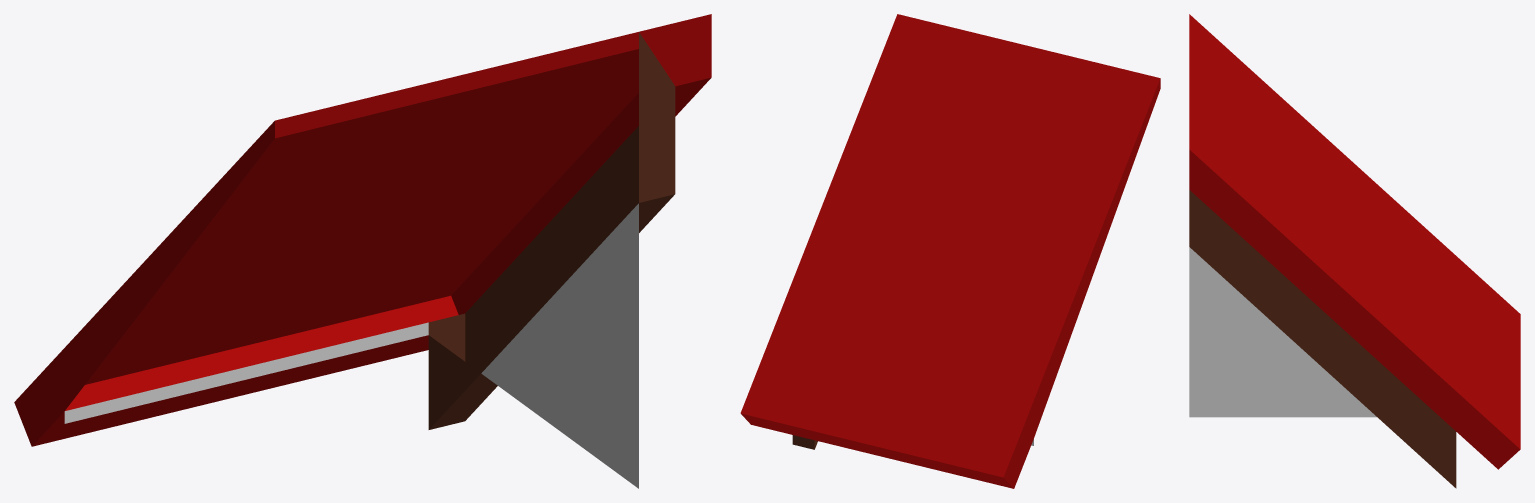
File: Roof_Edge_1.fbx
3 views of the same model, side by side, from view 1: azimuth 30°, elevation 25°; view 2: azimuth 150°, elevation 25°; view 3: azimuth 270°, elevation 25° (orthographic). The views are drawn at different scales.
Parts seen in each view (by area): view 1: Roof_Edge_1; view 2: Roof_Edge_1; view 3: Roof_Edge_1.
Boxes of the visible parts, left/top/right/bottom form: Roof_Edge_1: left=14, top=14, right=711, bottom=488; Roof_Edge_1: left=740, top=14, right=1160, bottom=488; Roof_Edge_1: left=1189, top=14, right=1520, bottom=488.
Size of the model in its own units: 0.012 by 0.0145 by 0.0124.
